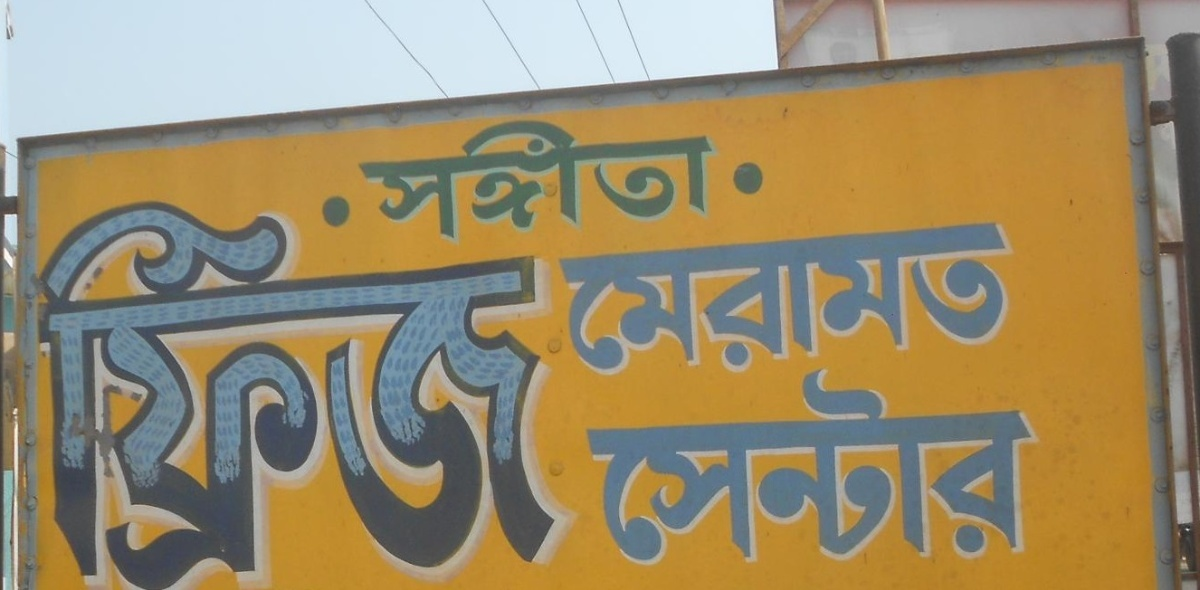text: (49, 191, 64, 587), (65, 191, 80, 587), (81, 191, 96, 587), (97, 191, 112, 587), (113, 191, 128, 587), (129, 191, 144, 587), (145, 191, 160, 587), (161, 191, 176, 587), (177, 191, 192, 587), (193, 191, 208, 587), (209, 191, 224, 587), (225, 191, 240, 587), (241, 191, 256, 587), (257, 191, 272, 587), (273, 191, 288, 587), (289, 191, 304, 587), (305, 191, 320, 587), (321, 191, 336, 587), (337, 191, 352, 587), (353, 191, 368, 587), (369, 191, 384, 587), (385, 191, 400, 587), (401, 191, 416, 587), (417, 191, 432, 587), (433, 191, 448, 587), (449, 191, 464, 587), (465, 191, 480, 587), (481, 191, 496, 587), (497, 191, 512, 587), (513, 191, 528, 587), (529, 191, 544, 587), (545, 191, 560, 587), (561, 191, 574, 587), (37, 191, 48, 587), (593, 352, 608, 571), (609, 352, 624, 571), (625, 352, 640, 571), (641, 352, 656, 571), (657, 352, 672, 571), (673, 352, 688, 571), (689, 352, 704, 571), (705, 352, 720, 571), (721, 352, 736, 571), (737, 352, 752, 571), (753, 352, 768, 571), (769, 352, 784, 571), (785, 352, 800, 571), (801, 352, 816, 571), (817, 352, 832, 571), (833, 352, 848, 571), (849, 352, 864, 571), (865, 352, 880, 571), (881, 352, 896, 571), (897, 352, 912, 571), (913, 352, 928, 571), (929, 352, 944, 571), (945, 352, 960, 571), (961, 352, 976, 571), (977, 352, 992, 571), (993, 352, 1008, 571), (1009, 352, 1024, 571), (1025, 352, 1040, 571), (561, 218, 576, 385), (577, 218, 592, 385), (593, 218, 608, 385), (609, 218, 624, 385), (625, 218, 640, 385), (641, 218, 656, 385), (657, 218, 672, 385), (673, 218, 688, 385), (689, 218, 704, 385), (705, 218, 720, 385), (721, 218, 736, 385), (737, 218, 752, 385), (753, 218, 768, 385), (769, 218, 784, 385), (785, 218, 800, 385), (801, 218, 816, 385), (817, 218, 832, 385), (833, 218, 848, 385), (849, 218, 864, 385), (865, 218, 880, 385), (881, 218, 896, 385), (897, 218, 912, 385), (913, 218, 928, 385), (929, 218, 944, 385), (945, 218, 960, 385), (961, 218, 976, 385), (977, 218, 992, 385), (993, 218, 1008, 385), (353, 97, 368, 248), (369, 97, 384, 248), (385, 97, 400, 248), (401, 97, 416, 248), (417, 97, 432, 248), (433, 97, 448, 248), (449, 97, 464, 248), (465, 97, 480, 248), (481, 97, 496, 248), (497, 97, 512, 248), (513, 97, 528, 248), (529, 97, 544, 248), (545, 97, 560, 248), (561, 97, 576, 248), (577, 97, 592, 248), (593, 97, 608, 248), (609, 97, 624, 248), (625, 97, 640, 248), (641, 97, 656, 248), (657, 97, 672, 248), (673, 97, 688, 248), (689, 97, 704, 248), (583, 352, 592, 571), (705, 97, 716, 248), (1009, 218, 1015, 385), (737, 157, 752, 200), (1041, 352, 1043, 571), (753, 157, 763, 200), (732, 157, 736, 200), (351, 97, 352, 248)
